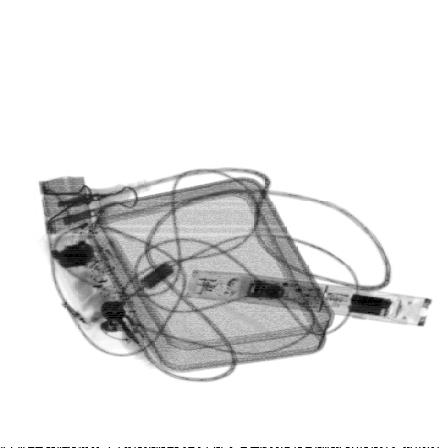Baton: (183, 269, 434, 328)
